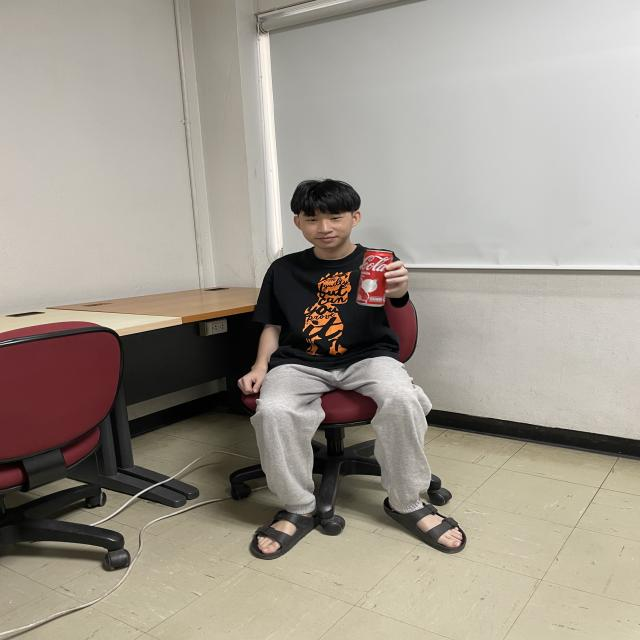can: (357, 248, 395, 309)
